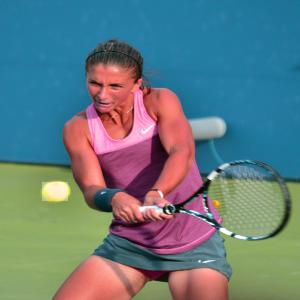TennisBall: (43, 183, 70, 203)
